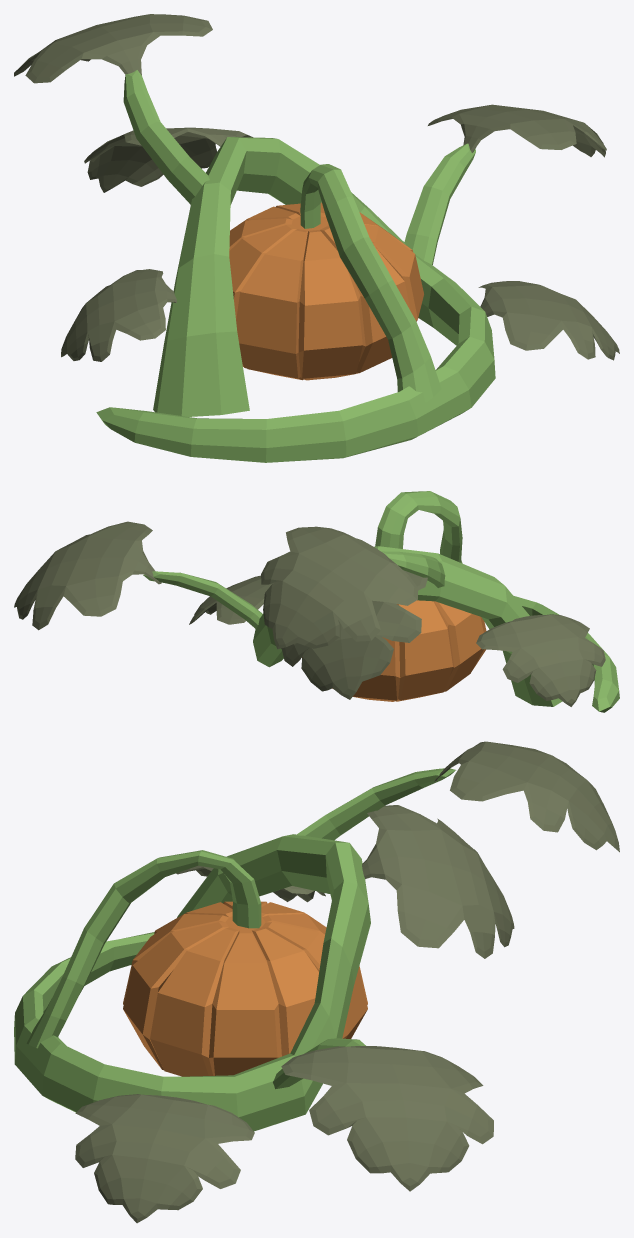
The model's file is Pumpkin_4.glb.
3 views of the same model, one above another, from view 1: azimuth 30°, elevation 25°; view 2: azimuth 150°, elevation 25°; view 3: azimuth 270°, elevation 25° (orthographic). The views are drawn at different scales.
Visible parts, largest first — view 1: Pumpkin_4; view 2: Pumpkin_4; view 3: Pumpkin_4.
Boxes of the visible parts, x1,y1,x2,y2 form: Pumpkin_4: (14, 14, 619, 462); Pumpkin_4: (14, 491, 619, 712); Pumpkin_4: (14, 741, 619, 1223).
Bounding box in the file's own units: 1.29 × 0.59 × 1.08.
